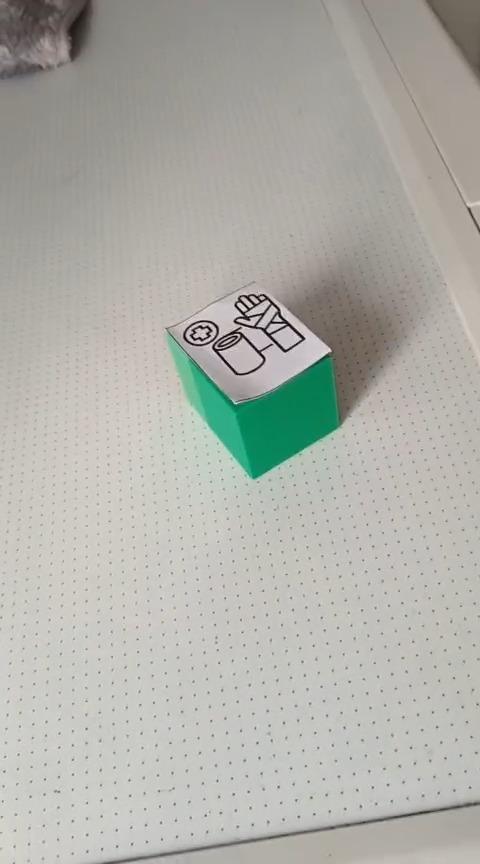Bandages: (165, 280, 343, 481)
